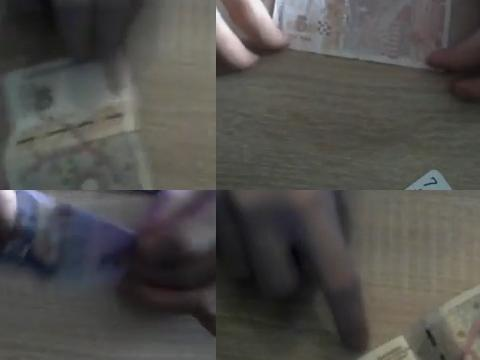10leva: (0, 42, 157, 190)
20leva: (0, 190, 135, 286)
5leva: (272, 0, 465, 71)
